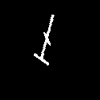double_crochet: (34, 15, 53, 64)
